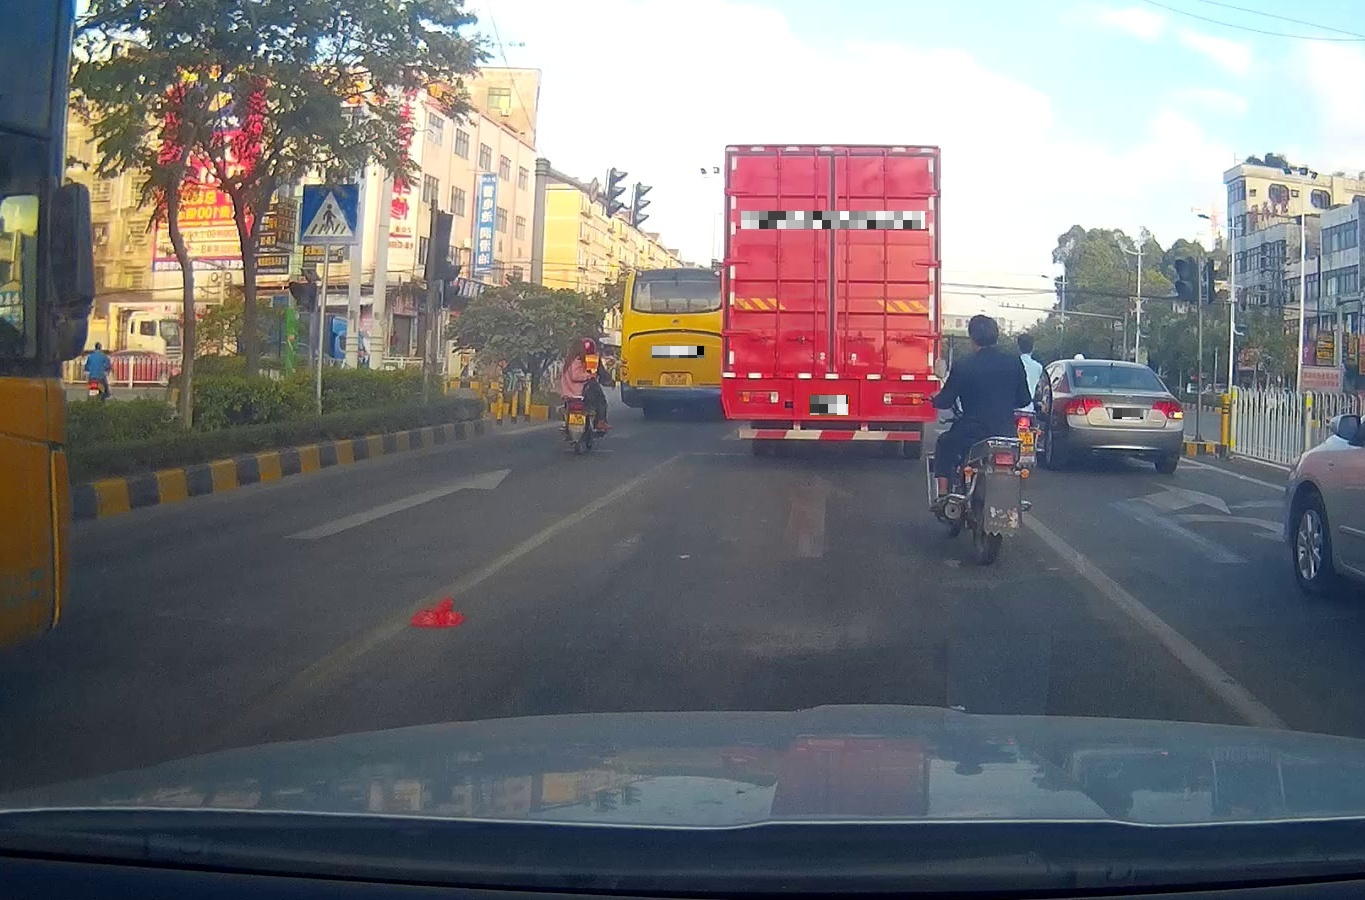L_light: (1063, 398, 1104, 415), (736, 390, 778, 404)
R_light: (1152, 400, 1184, 419), (882, 393, 925, 405)
T_light: (814, 158, 848, 167), (1106, 366, 1124, 370)
day-no: (721, 144, 941, 459)
day-right: (1062, 360, 1184, 473)
plate_1: (652, 346, 704, 358)
plate_2: (741, 211, 925, 229)
plate_3: (810, 395, 848, 415)
plate_4: (1113, 408, 1143, 419)
